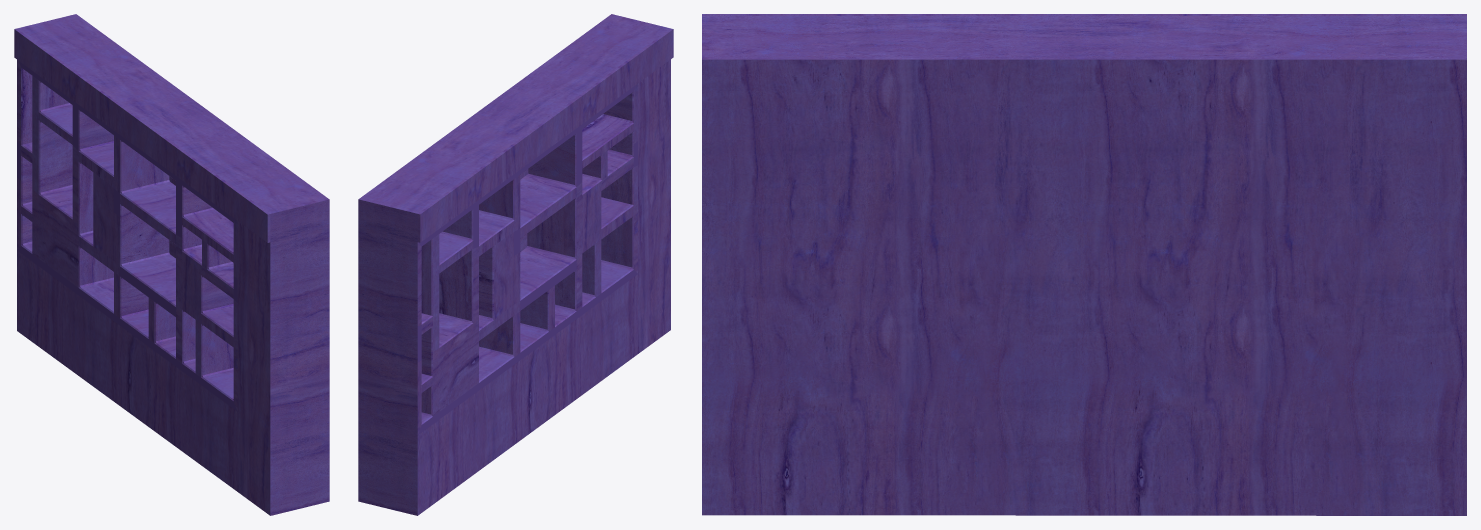
The model's file is MuebleMorado.obj.
3 views of the same model, side by side, from view 1: azimuth 30°, elevation 25°; view 2: azimuth 150°, elevation 25°; view 3: azimuth 270°, elevation 25° (orthographic). The views are drawn at different scales.
Parts seen in each view (by area): view 1: bigmueble1:polySurface4; view 2: bigmueble1:polySurface4; view 3: bigmueble1:polySurface4.
Boxes of the visible parts, box(x1,y1,x2,y2) form: bigmueble1:polySurface4: box(14, 14, 329, 515); bigmueble1:polySurface4: box(358, 14, 673, 515); bigmueble1:polySurface4: box(702, 14, 1466, 515).
Bounding box in the file's own units: 0.9139 × 4.26 × 6.47.
Materials: 1 (1 with a texture image).
